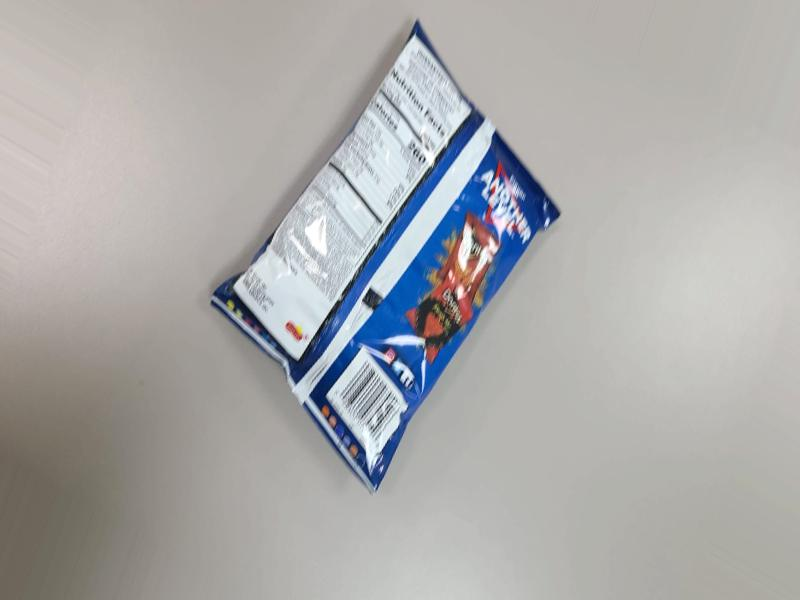doritos: (233, 23, 586, 540)
